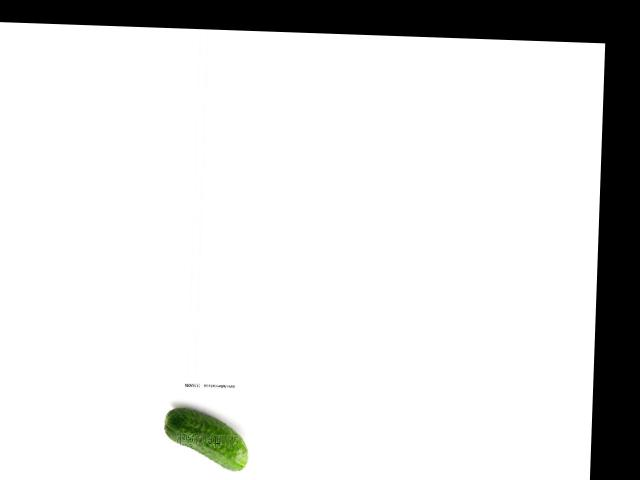cucumber: (162, 406, 249, 471)
